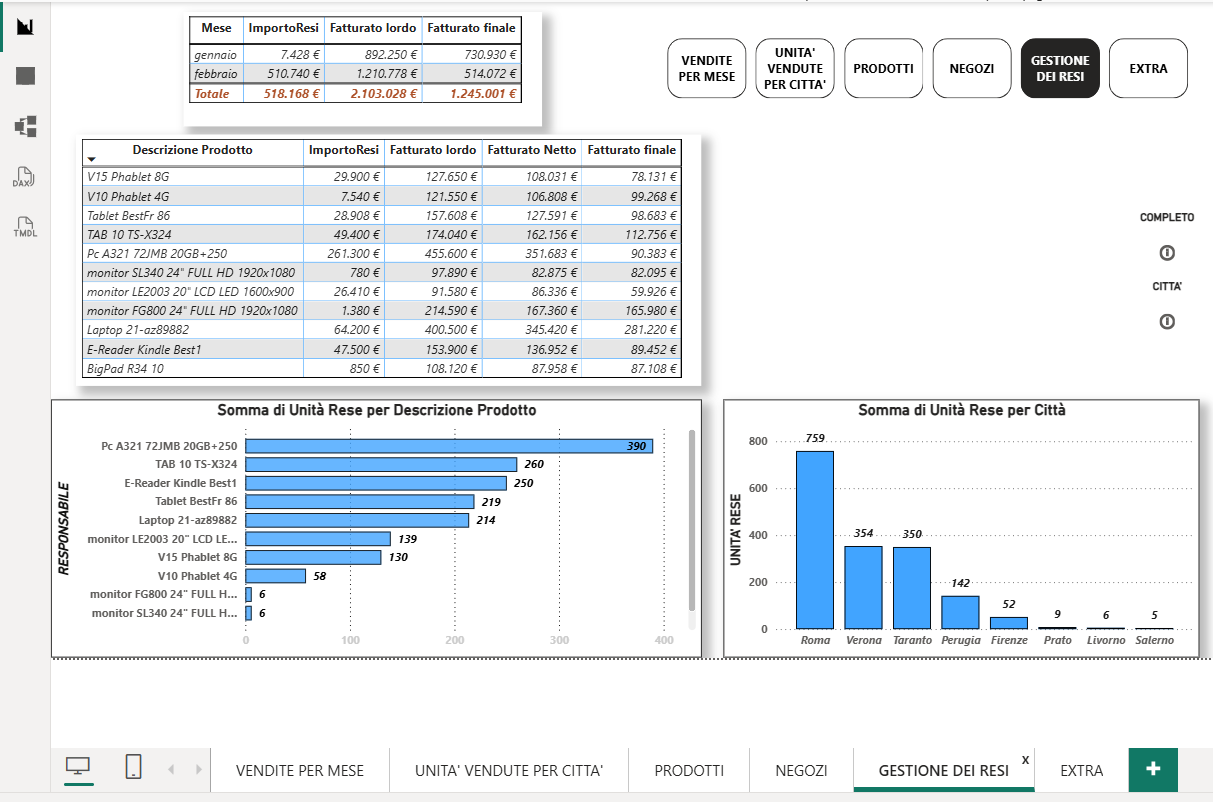

This screenshot's page, from the dashboard's own definition file:
{"tool":"powerbi","page":{"name":"GESTIONE DEI RESI","canvas":[1280,720],"ordinal":4},"visuals":[{"type":"tableEx","fields":{"Values":["Resi.Data di Reso.Variazione.Gerarchia data.Mese","MISURE.ImportoResi","MISURE.Fatturato lordo","MISURE.Fatturato finale"]},"box":[146,10.9,393.3,125.5],"z":0},{"type":"tableEx","fields":{"Values":["Resi.Descrizione Prodotto","MISURE.ImportoResi","MISURE.Fatturato lordo","MISURE.Fatturato Netto","MISURE.Fatturato finale"]},"box":[27.7,146,686.5,276.3],"z":1000},{"type":"barChart","fields":{"Category":["Resi.Descrizione Prodotto"],"Y":["Sum(Resi.Unità Rese)"]},"box":[0,436.7,714.2,283.5],"z":2000},{"type":"pageNavigator","box":[676.8,39.8,575.5,66.4],"z":3000},{"type":"clusteredColumnChart","fields":{"Category":["Province Italiane.Città"],"Y":["Sum(Resi.Unità Rese)"]},"box":[738.3,436.7,522.4,283.5],"z":4000},{"type":"actionButton","title":"COMPLETO","box":[1170,229.8,109.7,74.1],"z":5000},{"type":"actionButton","title":"CITTA''","box":[1170,304,109.7,74.1],"z":6000}]}

Visuals, with their boxes on the page's 1280x720 design canvas (x1, y1, x2, y2). These are canvas units, not pixel positions in the 1213x802 screenshot, which may show the page scaled, cropped or inside an application window:
tableEx - Resi.Data di Reso.Variazione.Gerarchia data.Mese x MISURE.ImportoResi: [146,11,539,136]
tableEx - Resi.Descrizione Prodotto x MISURE.ImportoResi: [28,146,714,422]
barChart - Resi.Descrizione Prodotto x Sum(Resi.Unità Rese): [0,437,714,720]
pageNavigator: [677,40,1252,106]
clusteredColumnChart - Province Italiane.Città x Sum(Resi.Unità Rese): [738,437,1261,720]
"COMPLETO" actionButton: [1170,230,1280,304]
"CITTA''" actionButton: [1170,304,1280,378]
